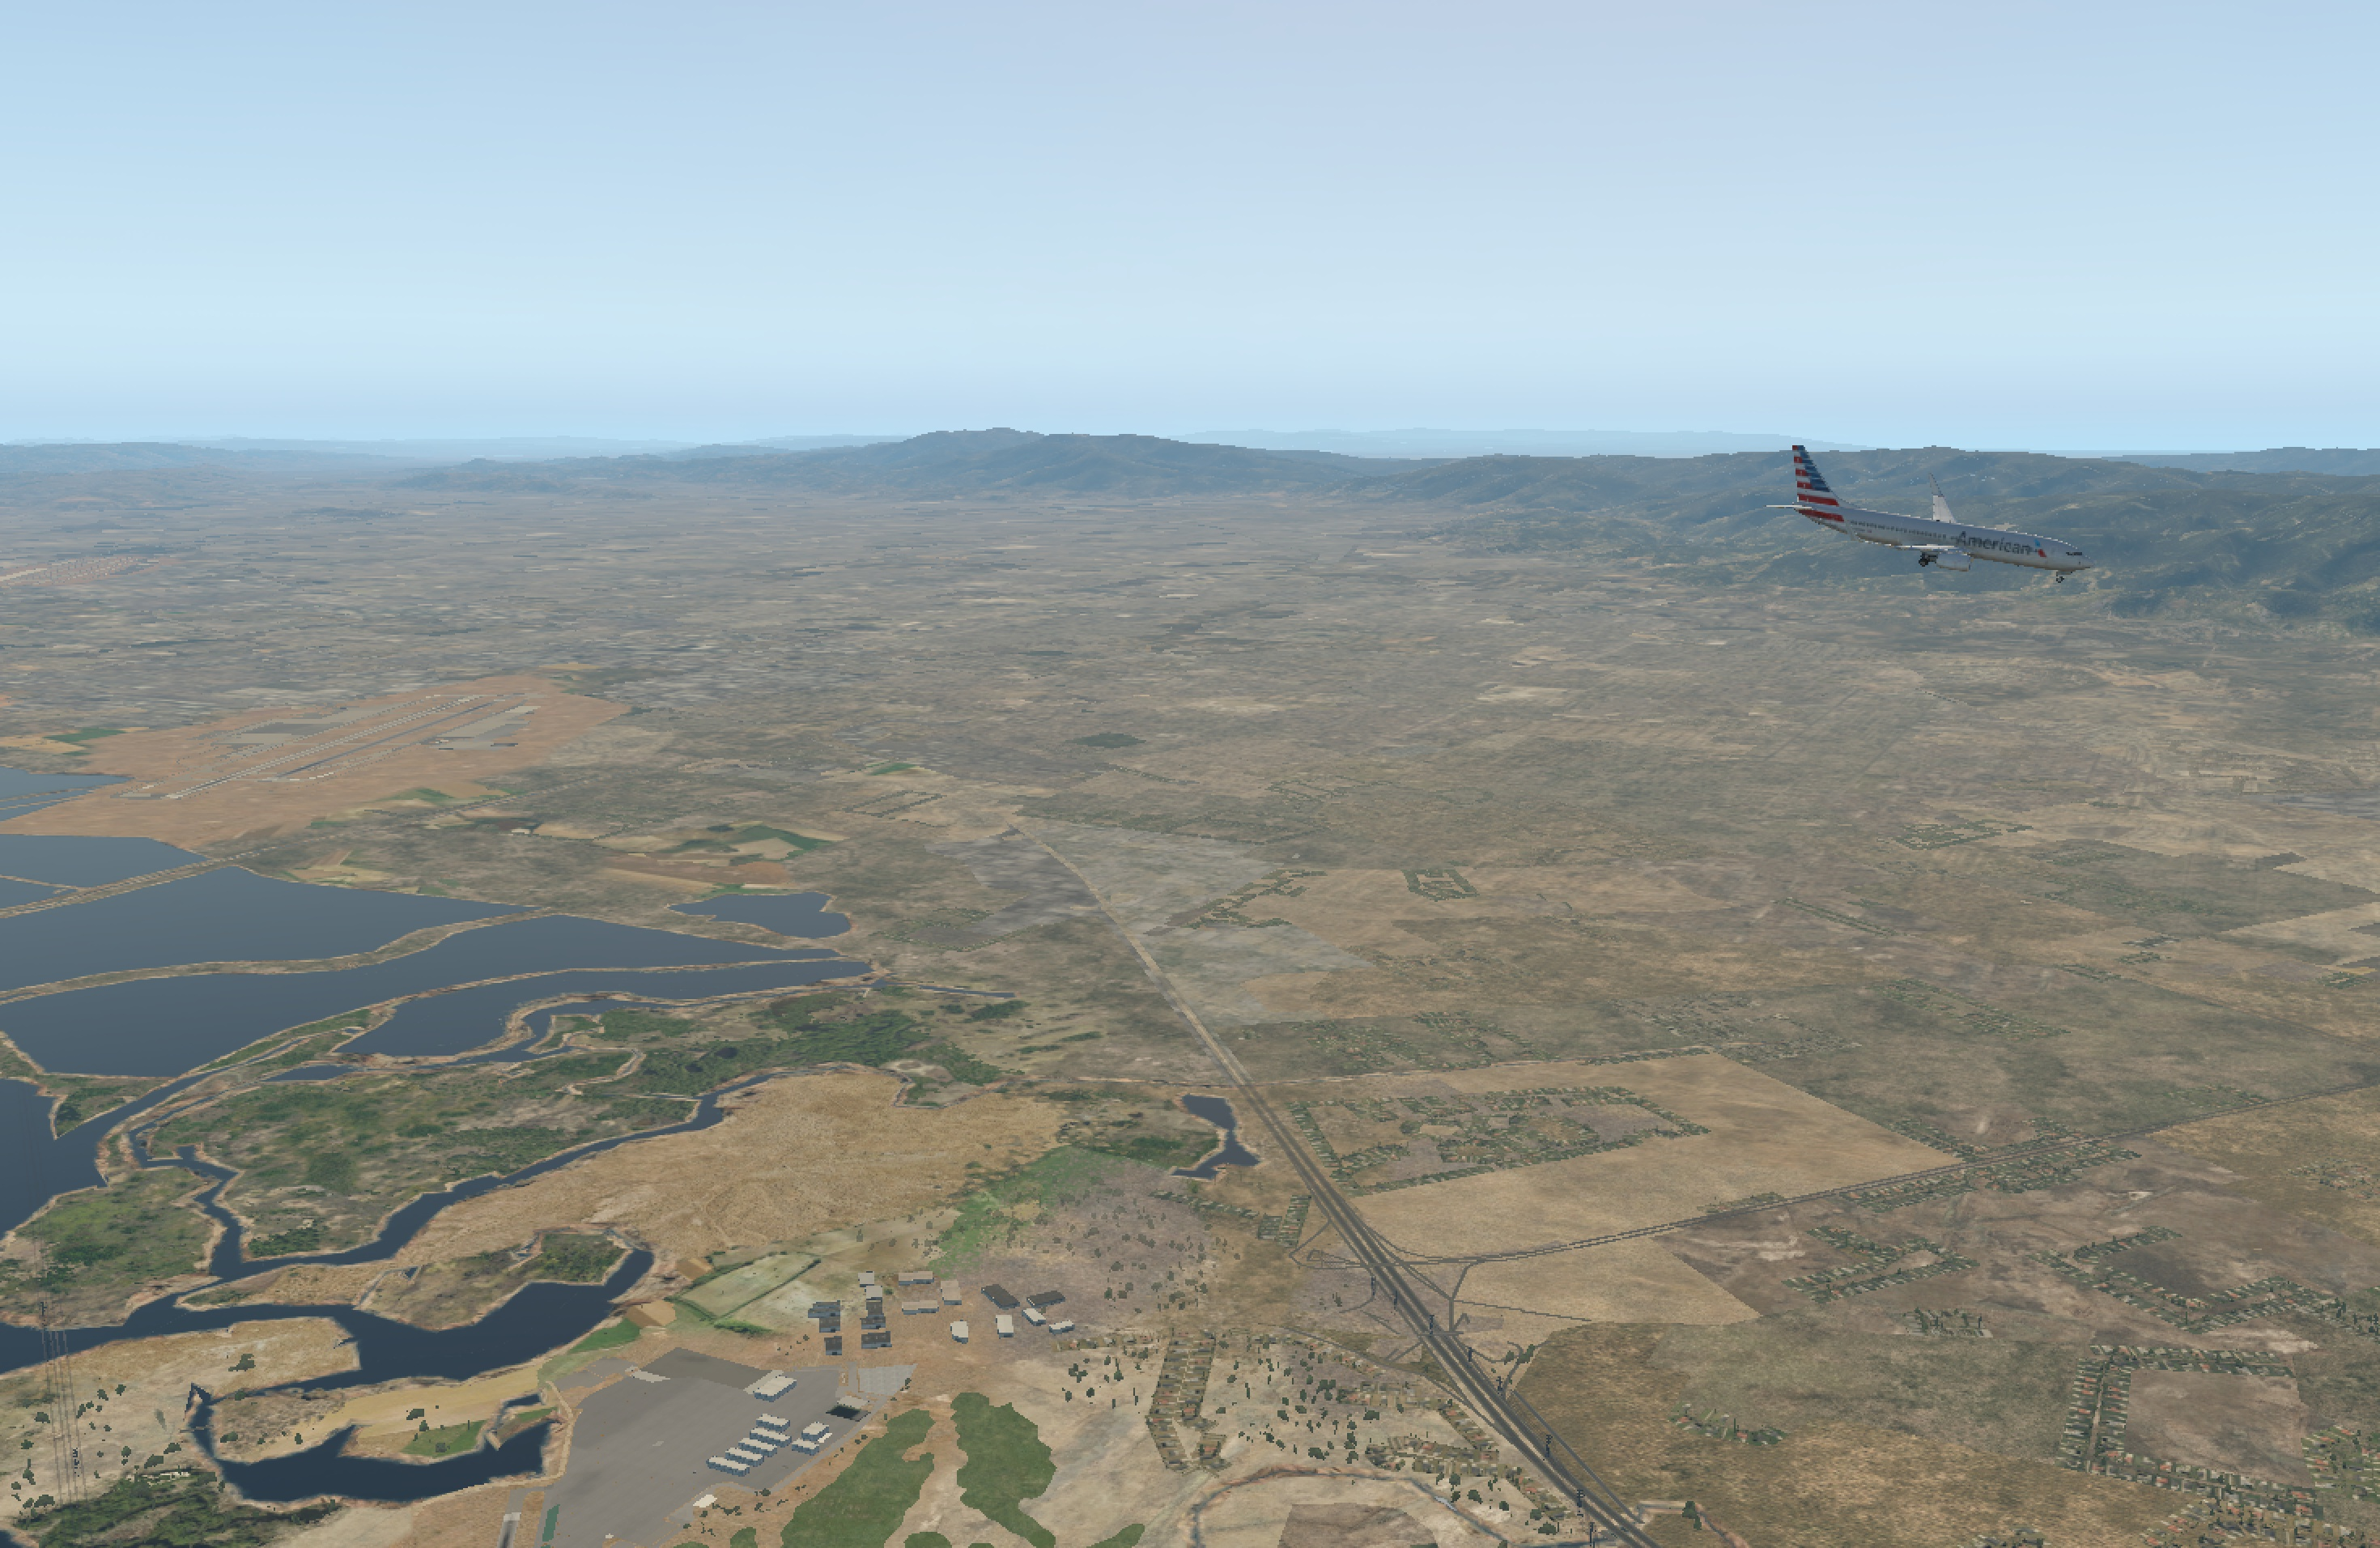aircraft: (1797, 488, 2089, 597)
